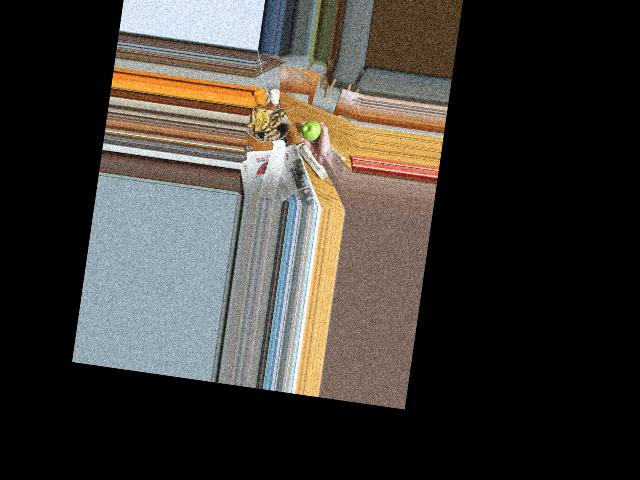apple: (301, 118, 322, 143)
